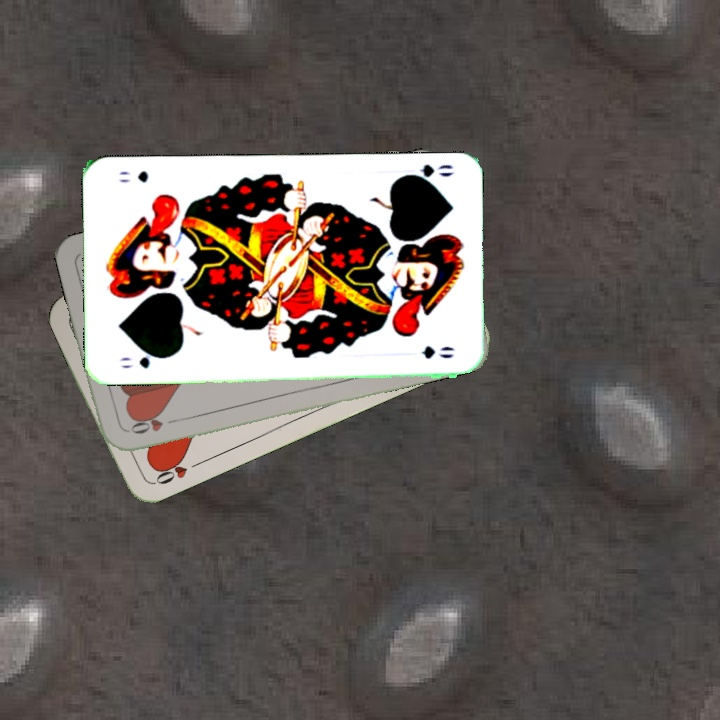GO: (397, 160, 456, 187), (115, 349, 168, 371)
HO: (147, 451, 203, 488), (123, 413, 181, 437)
